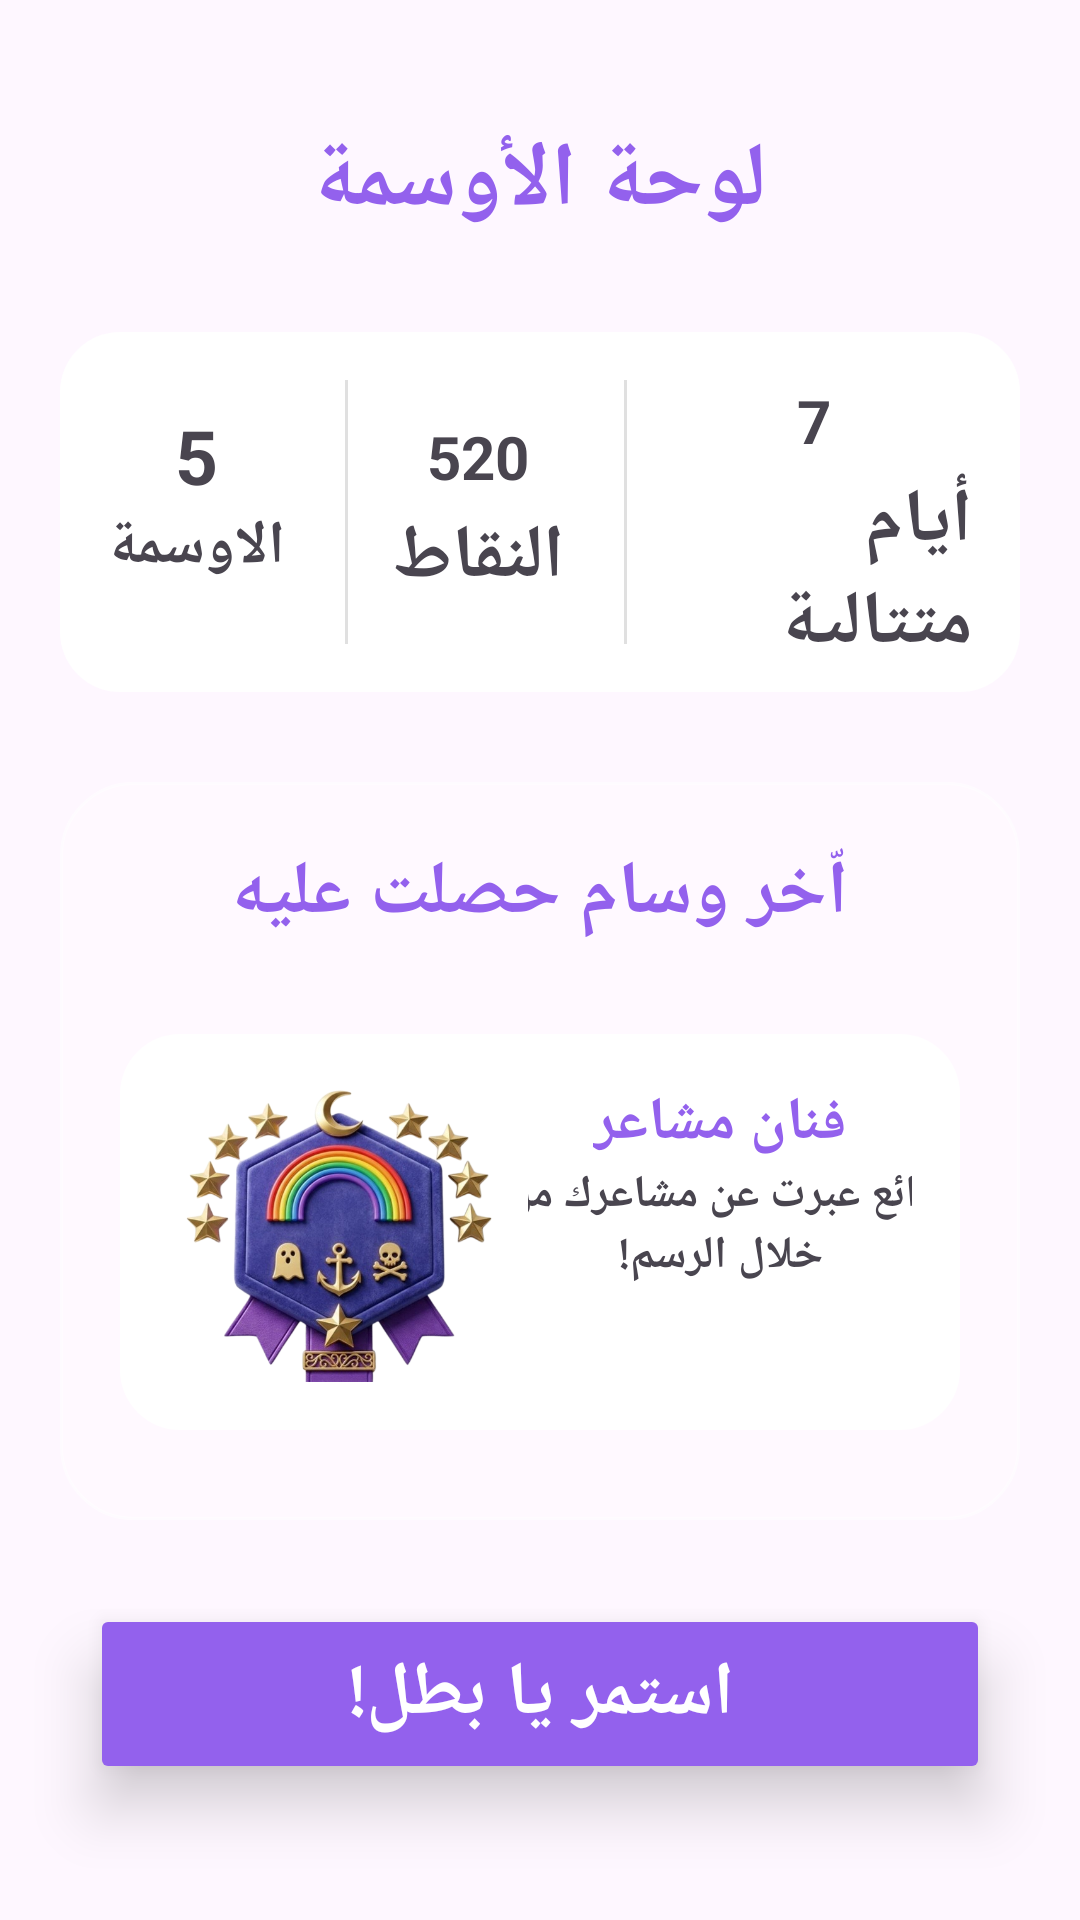

Named icons in this screenshot (1080x1920) and their bounding boxes, (x1, y1, x2, y2):
awards: (187, 1091, 492, 1382)
